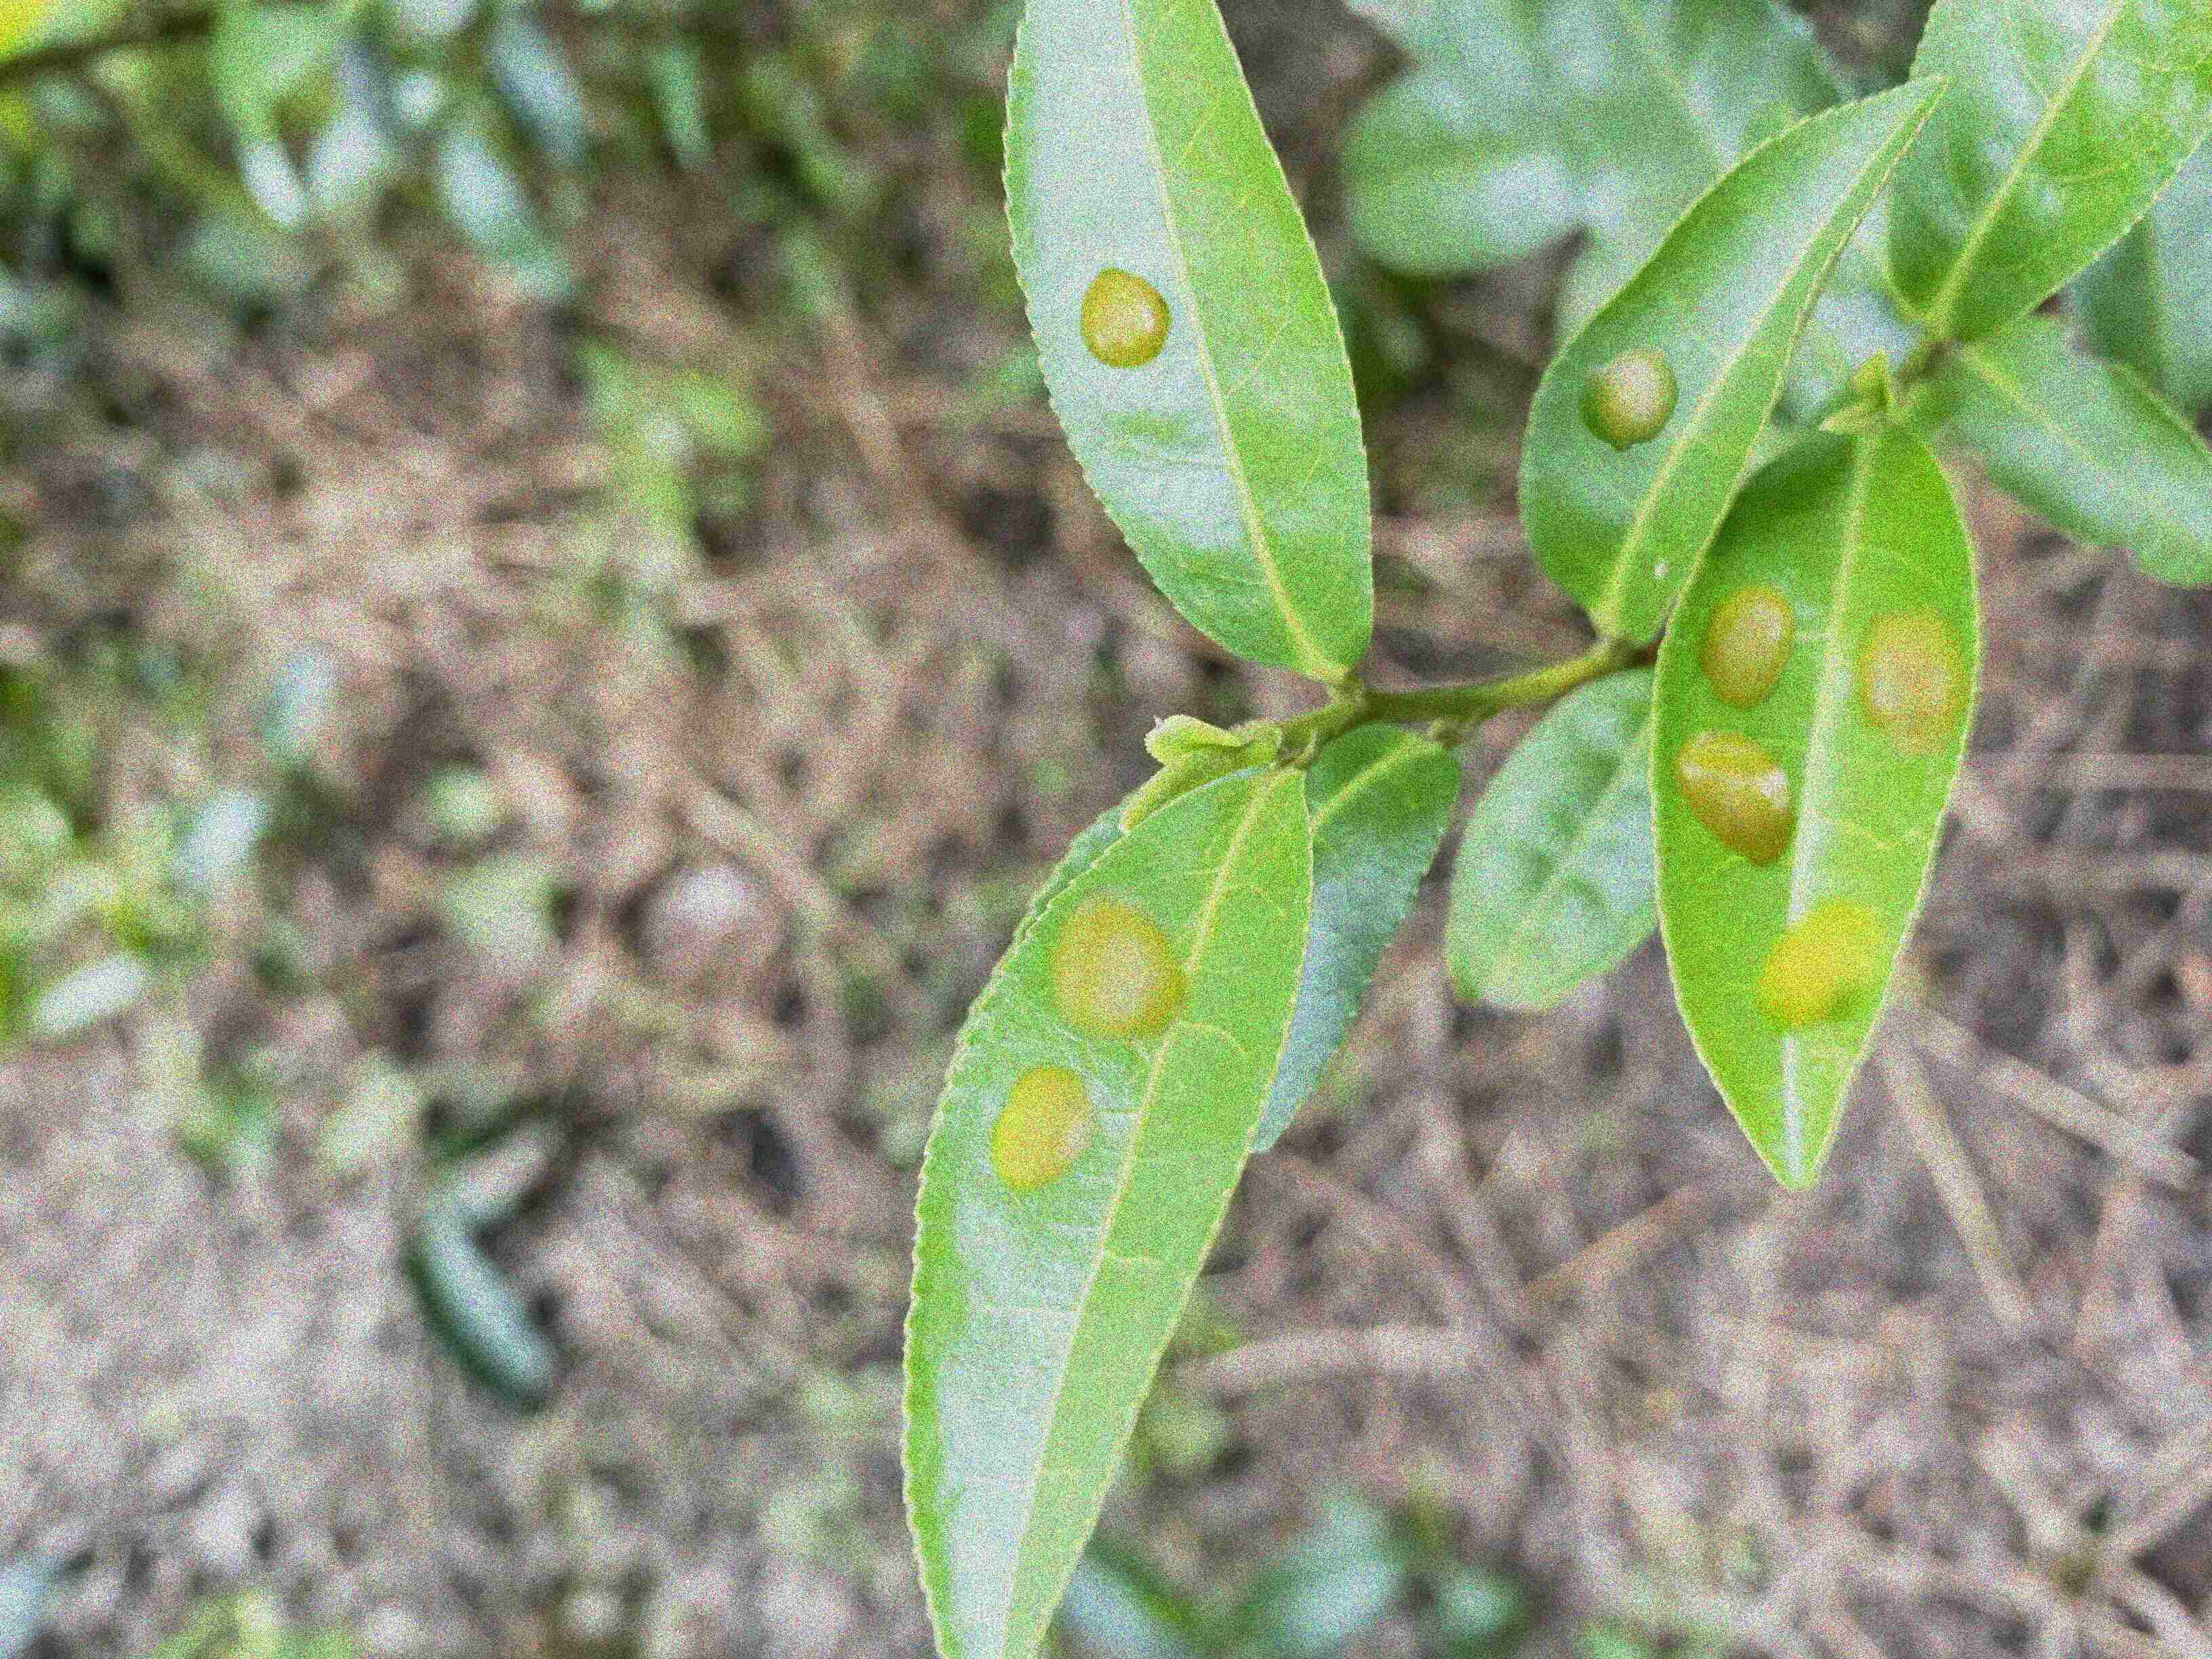chabing_high: (895, 763, 1317, 1659), (1646, 418, 1986, 1192)
chabing_low: (998, 0, 1376, 678), (1512, 71, 1946, 650)
healthy: (1883, 3, 2210, 347)
